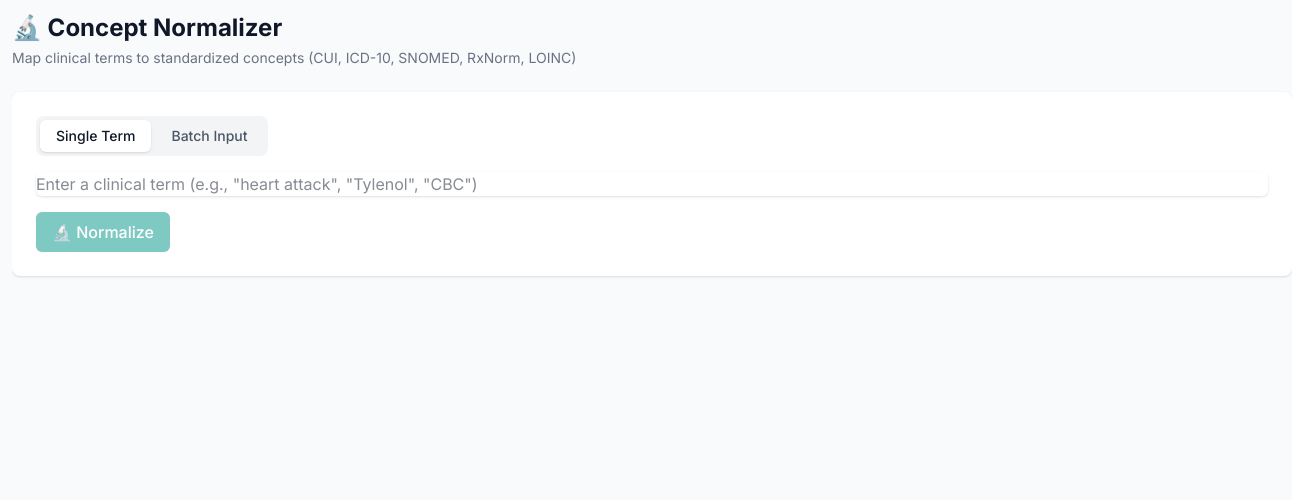
ConceptNormalizer — Mode Toggle › switches to batch mode and shows textarea
Click the button "Batch Input".
click(210, 136)  # box [156,120,264,152]
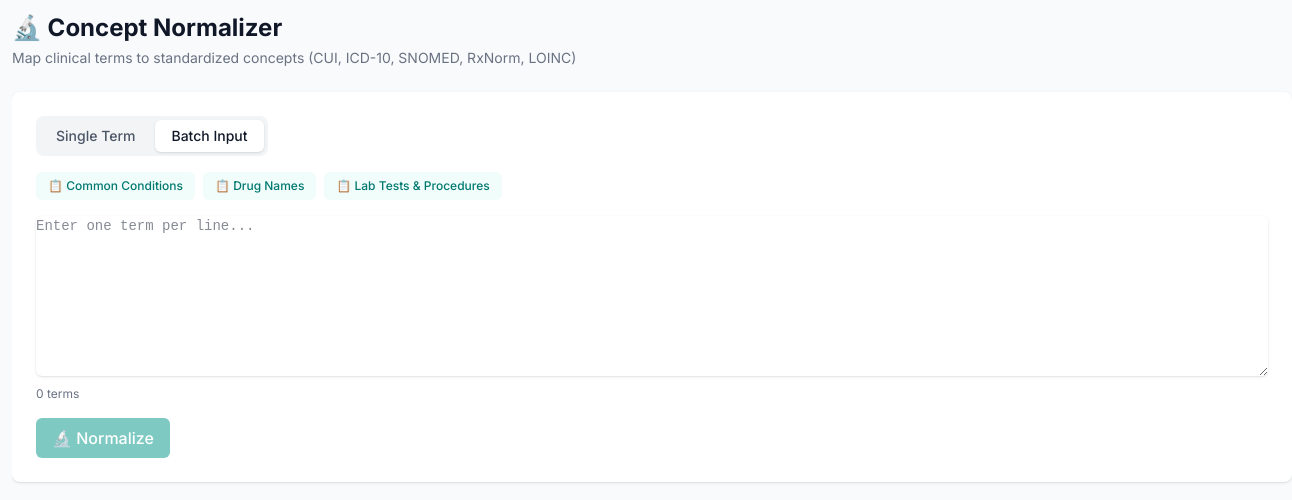
Now the text box with placeholder "Enter one term per line..." is shown, box [36,216,1268,376]
